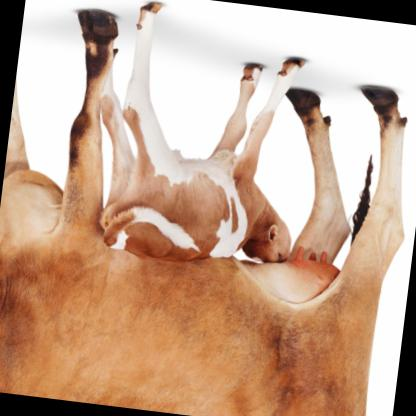Cow: (61, 0, 347, 274), (0, 243, 407, 415)
